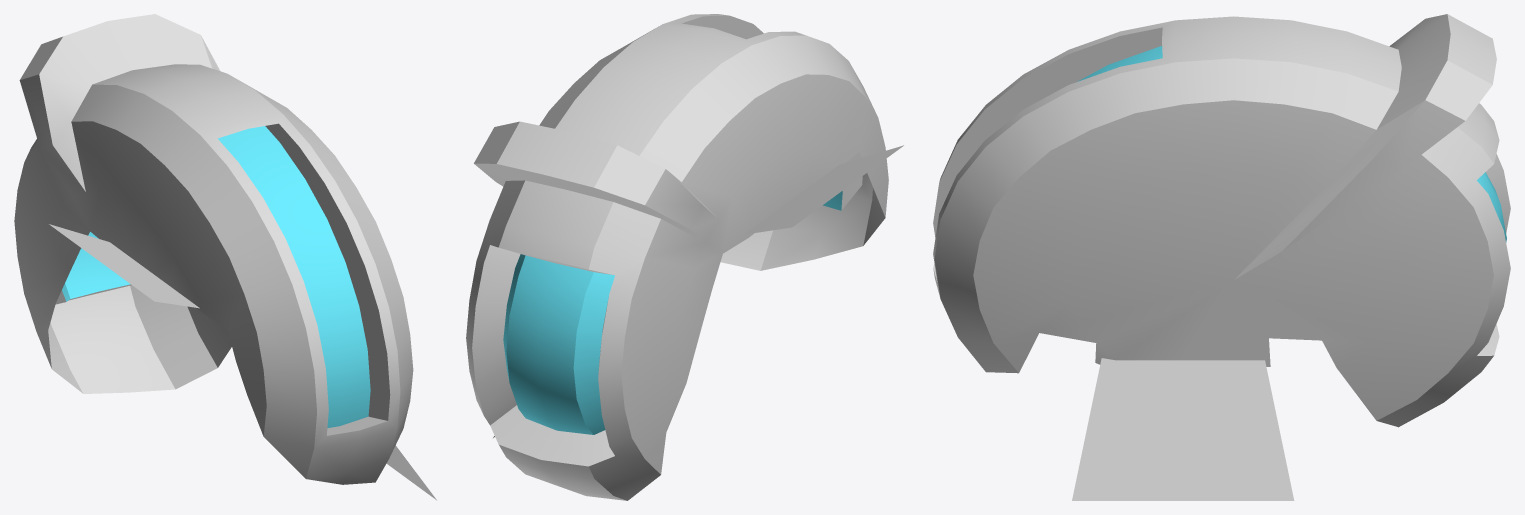
Rendered from Mod_Pauldron_L_Yuri2.fbx.
The picture shows the model from 3 angles, left to right: view 1: azimuth 30°, elevation 25°; view 2: azimuth 150°, elevation 25°; view 3: azimuth 270°, elevation 25°; orthographic projection. The views are drawn at different scales.
Parts seen in each view (by area): view 1: Mod_Pauldron_L_Yuri2; view 2: Mod_Pauldron_L_Yuri2; view 3: Mod_Pauldron_L_Yuri2.
Boxes of the visible parts, bbox=[...] form: Mod_Pauldron_L_Yuri2: bbox=[14, 14, 436, 500]; Mod_Pauldron_L_Yuri2: bbox=[466, 14, 903, 500]; Mod_Pauldron_L_Yuri2: bbox=[933, 14, 1510, 500].
Bounding box in the file's own units: 218 × 282 × 375.
